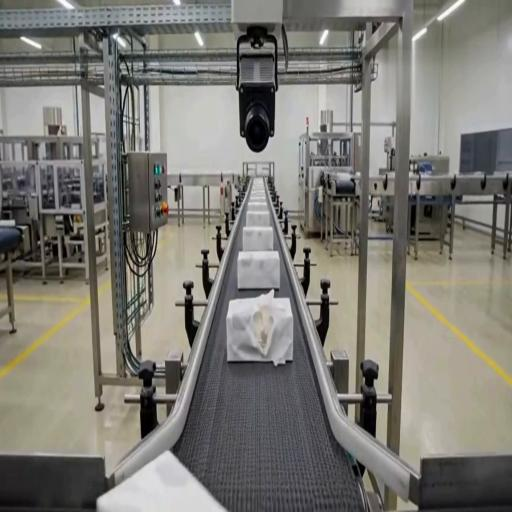defective: (98, 450, 232, 510), (227, 293, 293, 363)
good: (237, 250, 281, 292), (241, 226, 275, 252), (245, 209, 271, 227), (246, 201, 270, 216)
